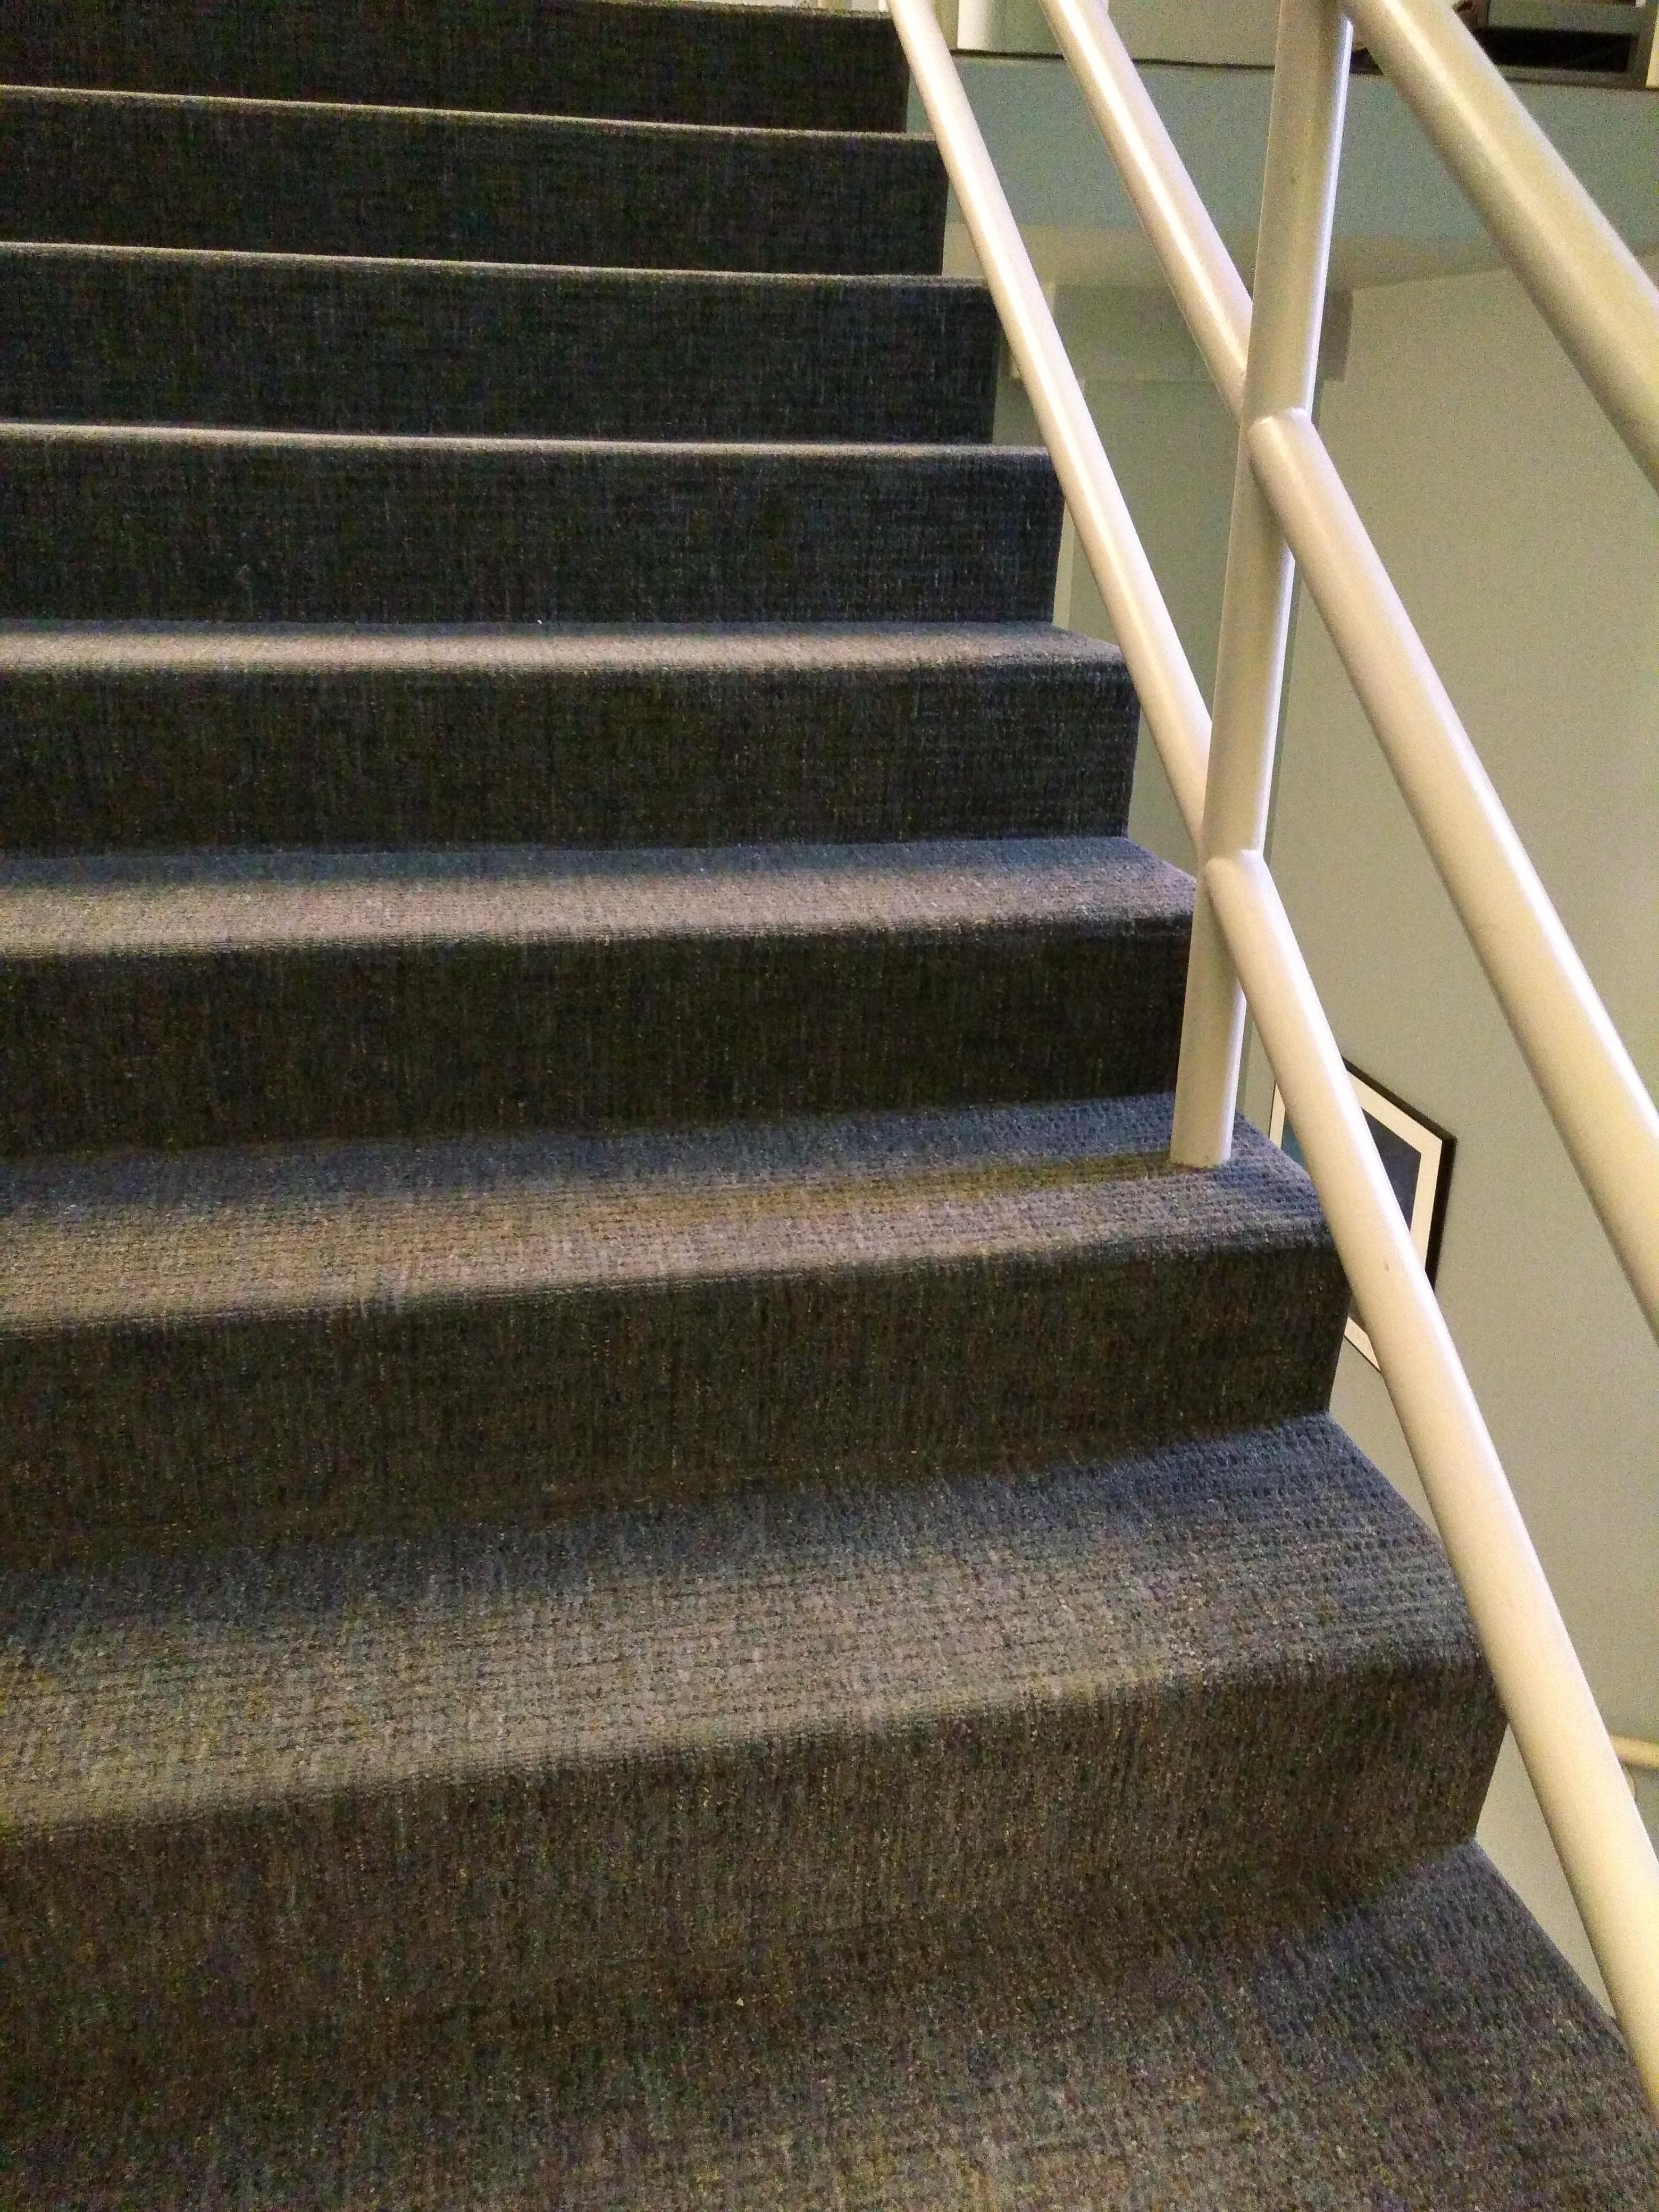stairs_up: (10, 19, 1265, 2149)
